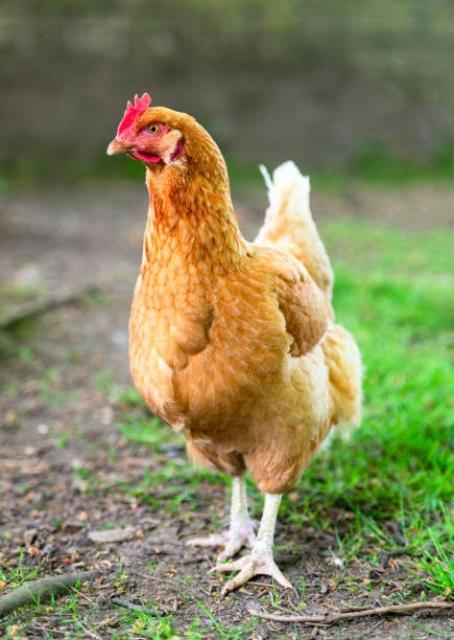Chicken: (105, 93, 365, 596)
